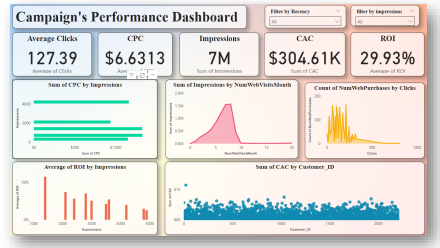

This screenshot's page, from the dashboard's own definition file:
{"tool":"powerbi","page":{"name":"campaigns performance","canvas":[1280,720],"ordinal":0},"visuals":[{"type":"textbox","box":[9.4,7.6,714.3,71.8],"z":0},{"type":"card","title":"Average Clicks","fields":{"Values":["Avg(Customers_Info.Clicks)"]},"box":[9.4,90.7,241.9,136.1],"z":1000},{"type":"card","title":" CPC","fields":{"Values":["Avg(Customers_Info.CPC)"]},"box":[270.2,90.7,226.8,136.1],"z":2000},{"type":"card","title":"Impressions","fields":{"Values":["Sum(Customers_Info.Impressions)"]},"box":[519.7,90.7,241.9,136.1],"z":3000},{"type":"card","title":"CAC","fields":{"Values":["Sum(Customers_Info.CAC)"]},"box":[776.7,90.7,247.6,136.1],"z":4000},{"type":"card","title":"ROI","fields":{"Values":["Avg(Customers_Info.ROI)"]},"box":[1041.3,90.7,224.9,136.1],"z":5000},{"type":"stackedAreaChart","fields":{"Category":["Customer_Activity.NumWebVisitsMonth"],"Y":["Sum(Customers_Info.Impressions)"]},"box":[476.2,238.1,404.4,240],"z":6000},{"type":"clusteredBarChart","fields":{"Category":["Customers_Info.Impressions"],"Y":["Sum(Customers_Info.CPC)"]},"box":[9.4,238.1,442.2,240],"z":7000},{"type":"clusteredColumnChart","fields":{"Category":["Customers_Info.Impressions"],"Y":["Avg(Customers_Info.ROI)"]},"box":[9.4,487.6,442.2,221.1],"z":8000},{"type":"stackedAreaChart","fields":{"Y":["CountNonNull(Customer_Activity.NumWebPurchases)"],"Category":["Customers_Info.Clicks"]},"box":[901.4,247.6,364.7,230.6],"z":9000},{"type":"scatterChart","fields":{"X":["Customer_Activity.Customer_ID"],"Y":["Sum(Customers_Info.CAC)"]},"box":[474.3,487.6,791.8,221.1],"z":10000},{"type":"slicer","fields":{"Values":["Customers_Info.Impressions"]},"box":[1041.3,7.6,209.8,64.3],"z":11000},{"type":"slicer","fields":{"Values":["Customer_Activity.Recency"]},"box":[778.6,7.6,247.6,69.9],"z":12000}]}

Visuals, with their boxes in screenshot pixels (x1, y1, x2, y2), scaled from the page's 1280x720 canvas onto the 440x248 screenshot:
textbox: BBox(3, 3, 249, 27)
"Average Clicks" card: BBox(3, 31, 86, 78)
" CPC" card: BBox(93, 31, 171, 78)
"Impressions" card: BBox(179, 31, 262, 78)
"CAC" card: BBox(267, 31, 352, 78)
"ROI" card: BBox(358, 31, 435, 78)
stackedAreaChart - Customer_Activity.NumWebVisitsMonth x Sum(Customers_Info.Impressions): BBox(164, 82, 303, 165)
clusteredBarChart - Customers_Info.Impressions x Sum(Customers_Info.CPC): BBox(3, 82, 155, 165)
clusteredColumnChart - Customers_Info.Impressions x Avg(Customers_Info.ROI): BBox(3, 168, 155, 244)
stackedAreaChart - CountNonNull(Customer_Activity.NumWebPurchases) x Customers_Info.Clicks: BBox(310, 85, 435, 165)
scatterChart - Customer_Activity.Customer_ID x Sum(Customers_Info.CAC): BBox(163, 168, 435, 244)
slicer - Customers_Info.Impressions: BBox(358, 3, 430, 25)
slicer - Customer_Activity.Recency: BBox(268, 3, 353, 27)
